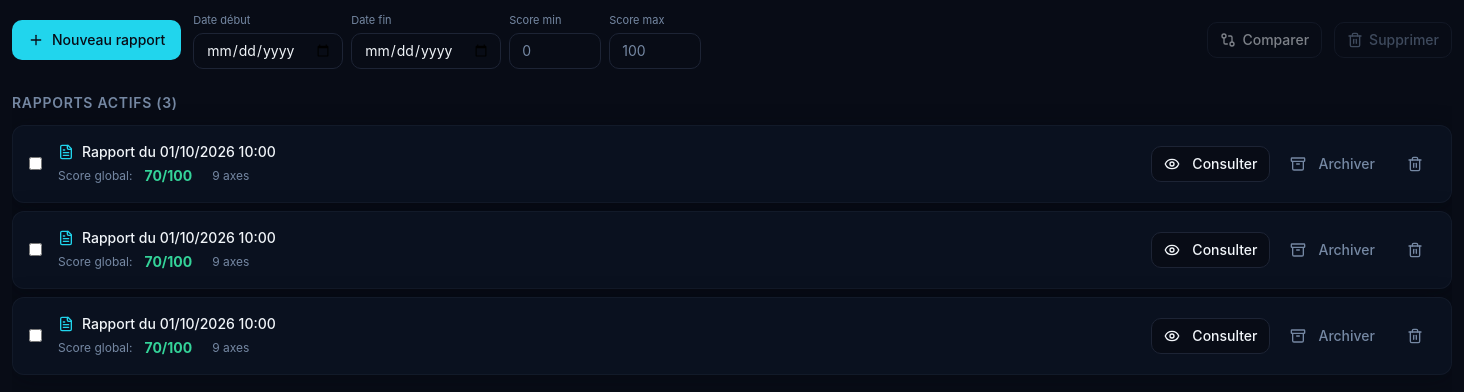
Test: project loading dependencies › keeps a failed comparison visible as an error
Click the 1st checkbox.
click(36, 164)  # box [29,157,42,170]
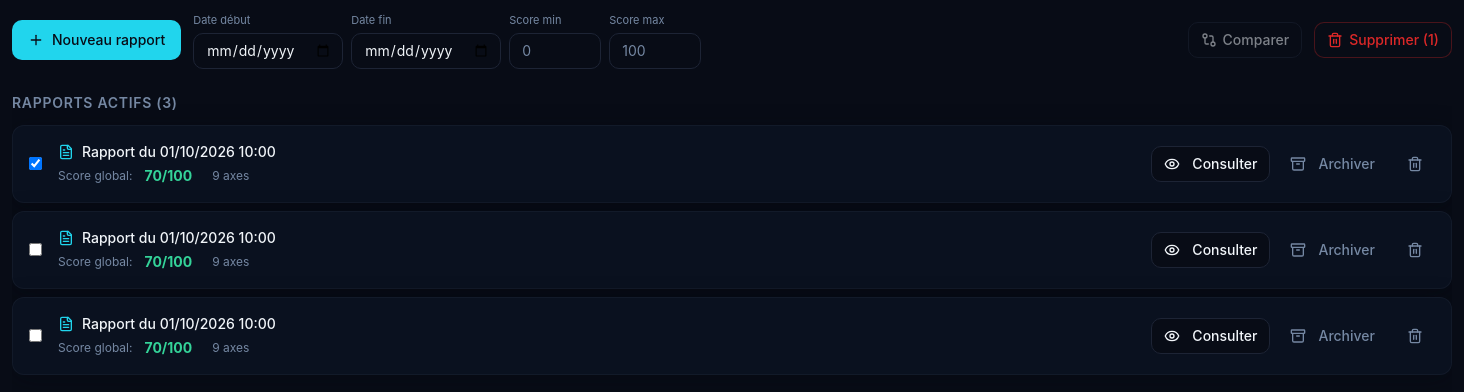
Click the 2nd checkbox.
click(36, 250)  # box [29,243,42,256]
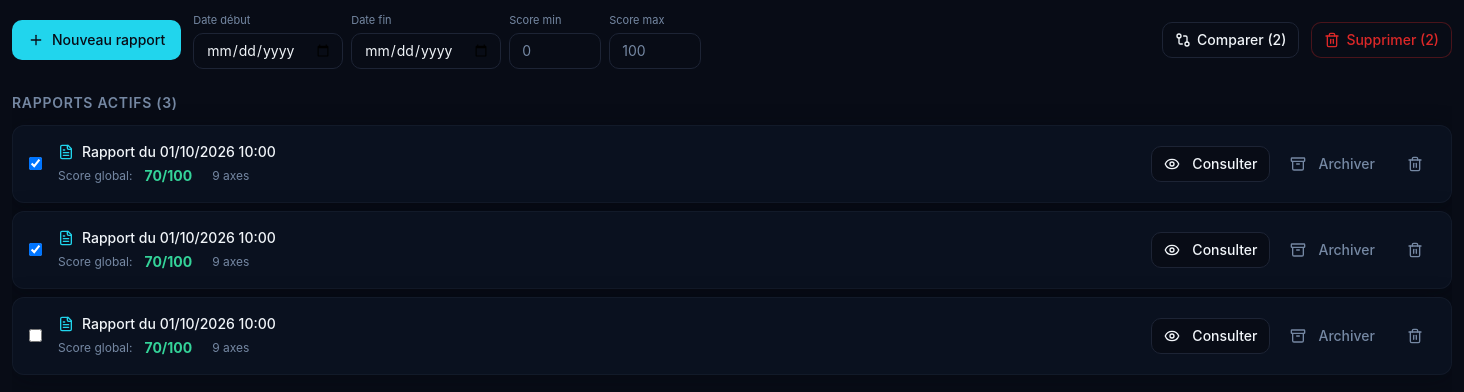
Click the button "Comparer (2)".
click(1231, 40)  # box [1162,22,1299,58]
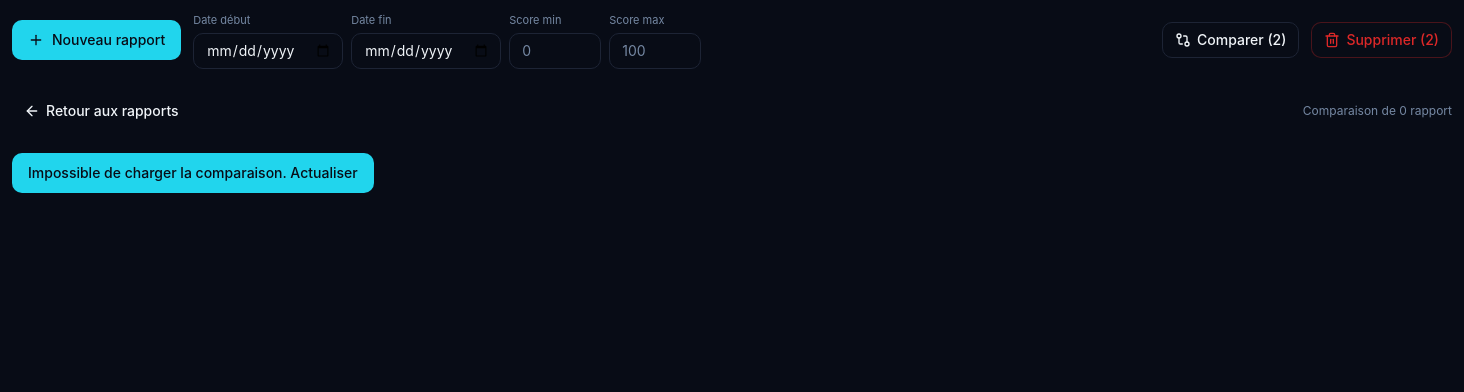
Now the button "Impossible de charger la comparaison. Actualiser" is shown, box [12,152,374,192]
